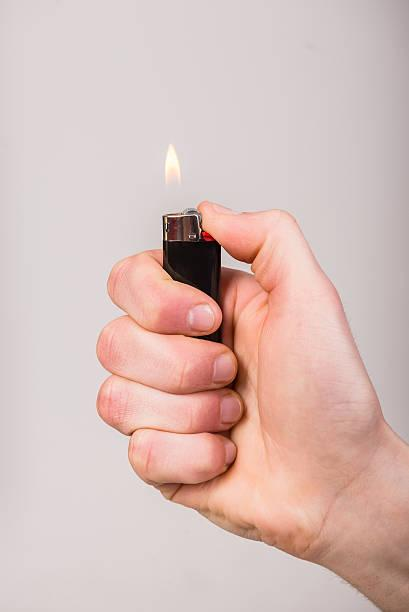Fire: (154, 140, 193, 207)
